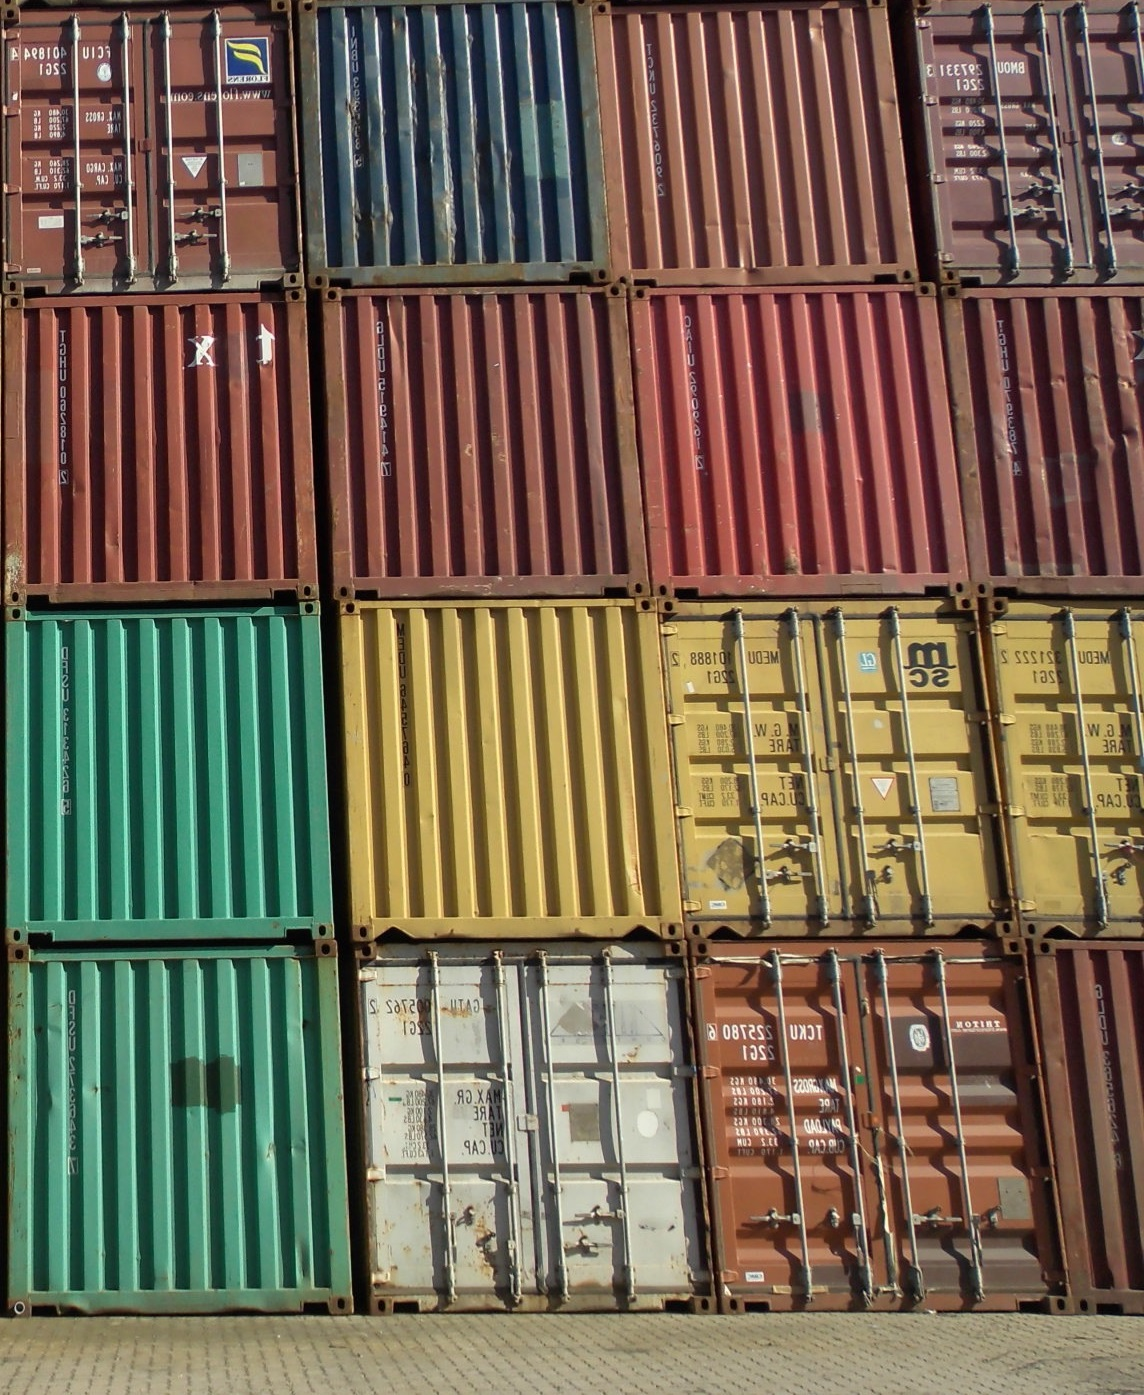container_door: (688, 933, 1061, 1310), (349, 940, 702, 1316), (666, 598, 1007, 938), (7, 1, 298, 298), (930, 1, 1143, 284), (989, 601, 1144, 938)
container_no_door: (12, 942, 352, 1321), (334, 599, 660, 942), (9, 602, 334, 945), (321, 283, 653, 602), (637, 279, 968, 599), (7, 294, 316, 598), (301, 1, 611, 278), (620, 1, 930, 278), (959, 279, 1144, 596)
